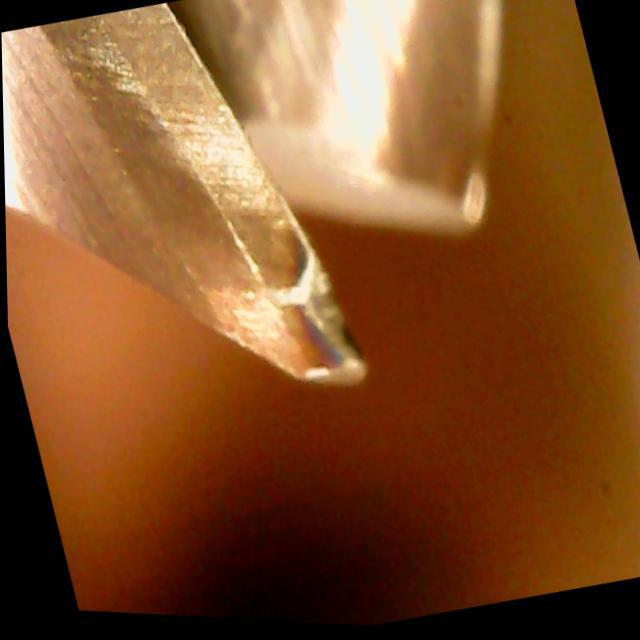Tool-wear-class-1: (116, 56, 402, 428)
